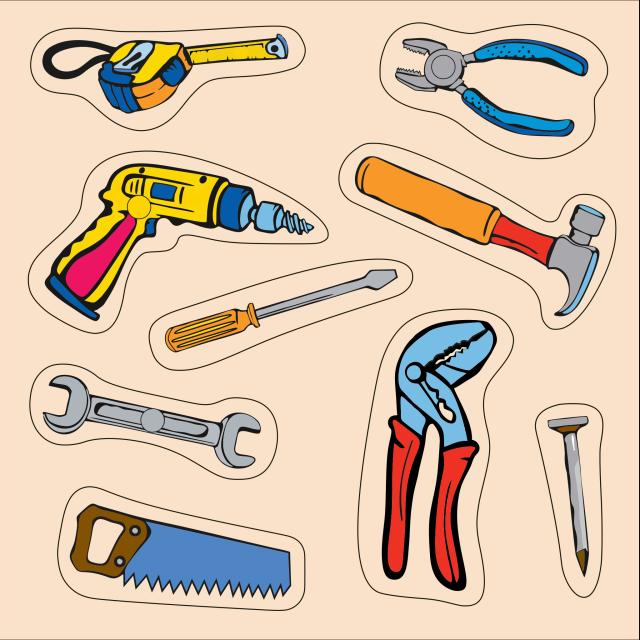Screwdriver: (165, 270, 396, 352)
